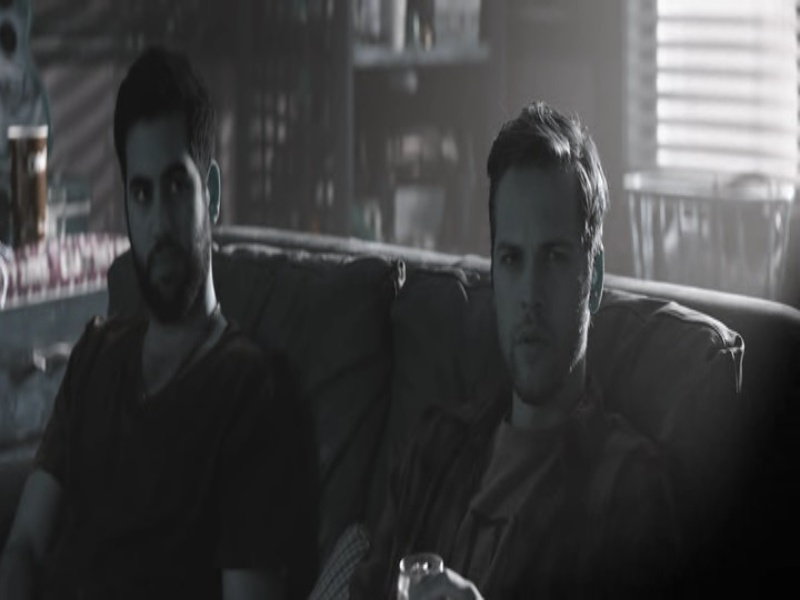TsisyArotava: (474, 144, 610, 422), (91, 91, 230, 329)
